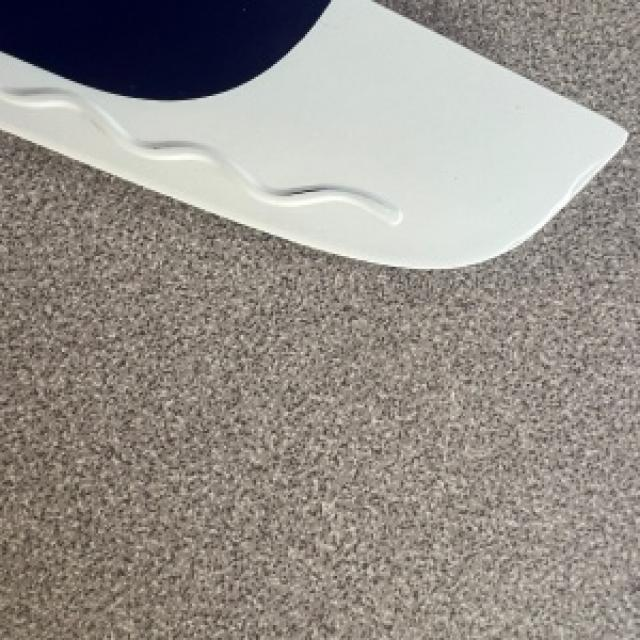healthy: (0, 0, 625, 267)
